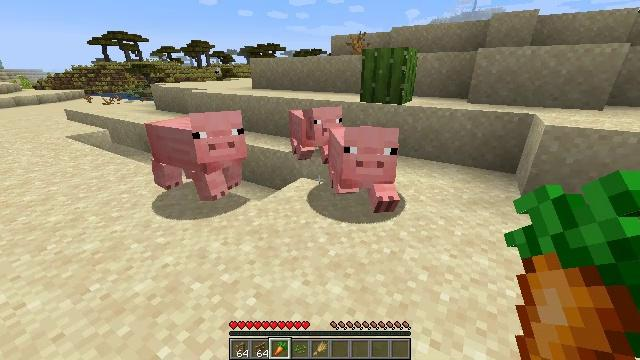pig: (149, 116, 247, 196), (327, 127, 402, 209), (286, 105, 346, 163)
